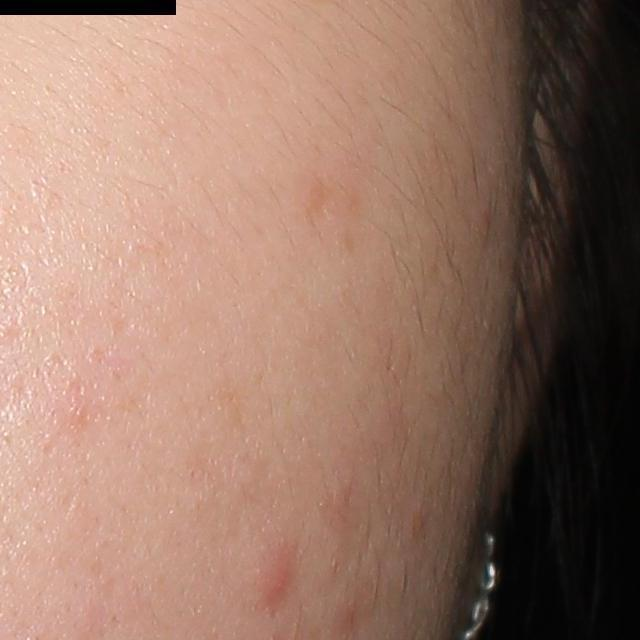papule: (247, 546, 294, 608)
